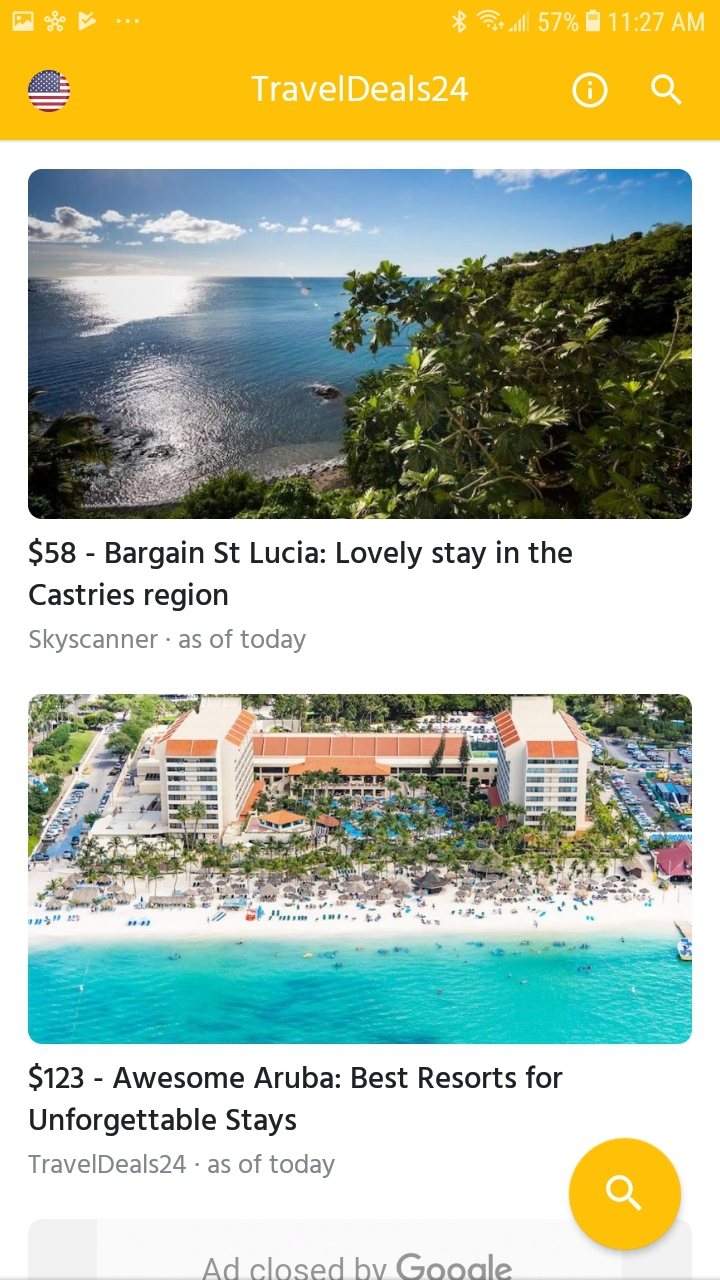Icon: (569, 1139, 681, 1250), (572, 73, 608, 109), (651, 75, 682, 106)
Image: (29, 169, 693, 520), (29, 694, 693, 1044), (29, 70, 71, 113)
Text: (29, 538, 573, 612), (29, 1063, 563, 1137), (203, 1253, 512, 1280), (29, 1153, 337, 1179), (31, 629, 307, 653), (252, 76, 469, 103)
UpperTaskBar: (1, 1, 720, 34)
